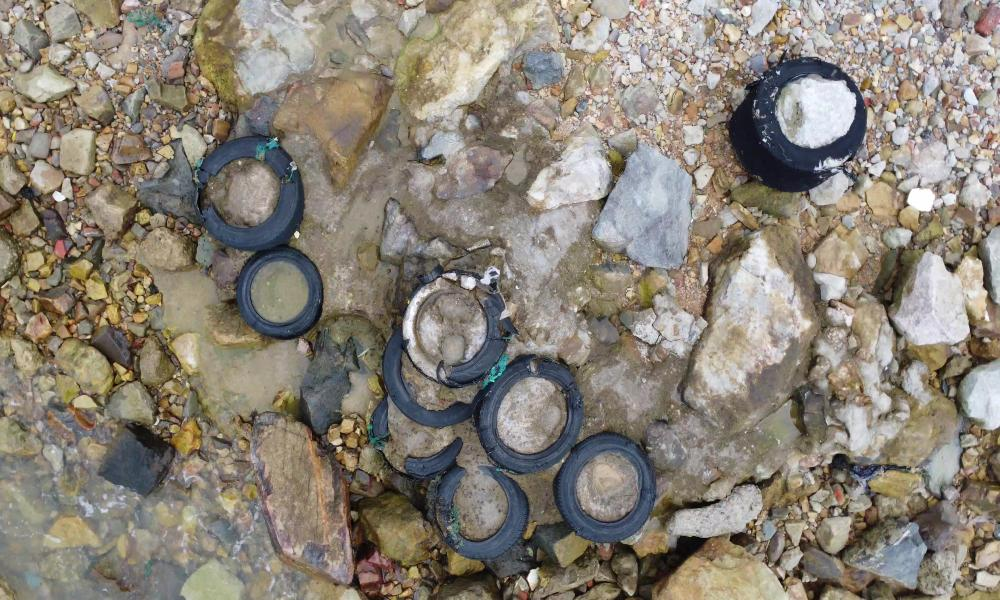tire: (730, 65, 865, 194), (476, 358, 580, 471), (201, 134, 304, 248), (405, 274, 505, 378), (559, 432, 655, 540), (435, 464, 528, 558), (238, 250, 321, 339)
